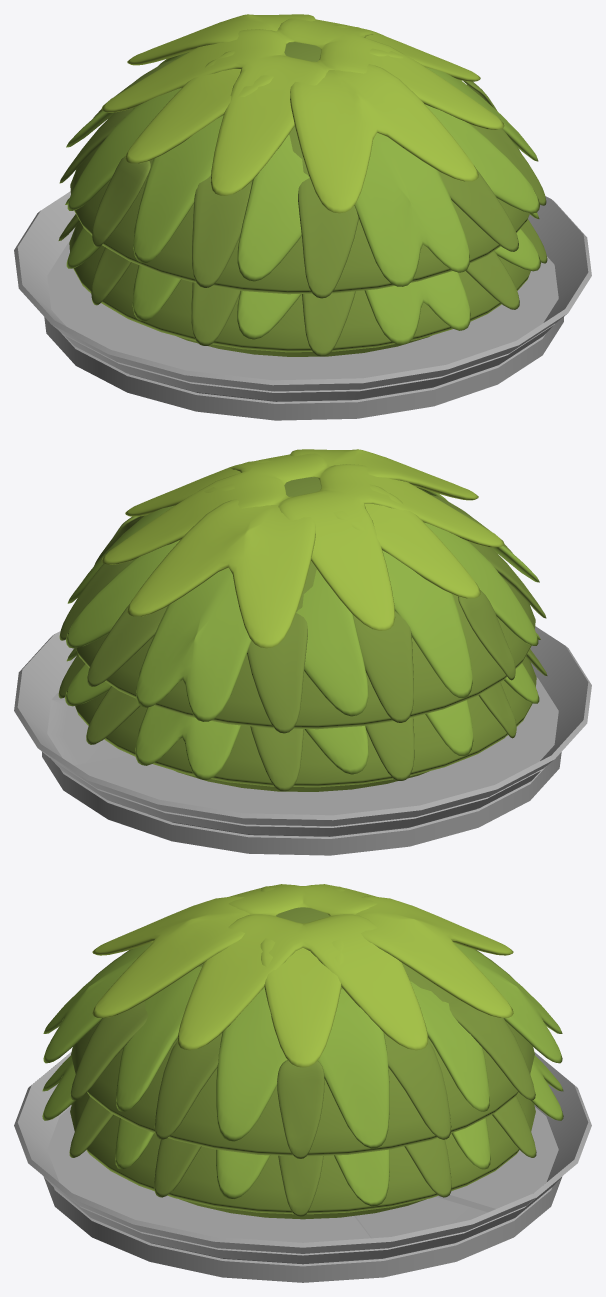
The model's file is Bush.fbx.
3 views of the same model, one above another, from view 1: azimuth 30°, elevation 25°; view 2: azimuth 150°, elevation 25°; view 3: azimuth 270°, elevation 25° (orthographic).
Parts seen in each view (by area): view 1: pCylinder5; view 2: pCylinder5; view 3: pCylinder5.
Boxes of the visible parts, bbox=[...] form: pCylinder5: bbox=[14, 14, 591, 420]; pCylinder5: bbox=[14, 449, 591, 855]; pCylinder5: bbox=[14, 884, 591, 1282].
Bounding box in the file's own units: 2.21 × 1.19 × 2.21.
